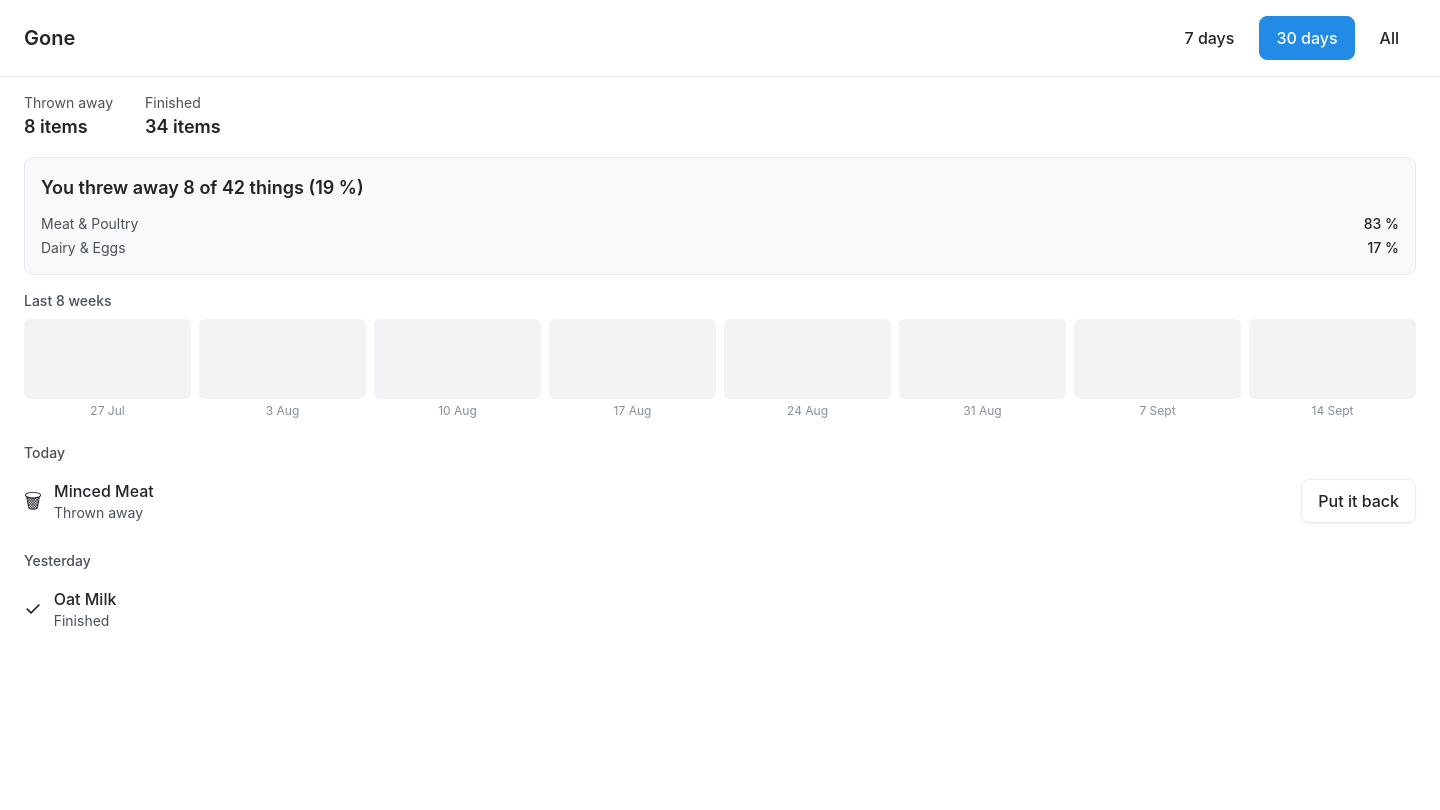
Test: The Gone screen › offers a way back for what is still in the bin, and nothing for what was eaten
The image size is (1440, 810).
Click the button with aria-label "Put Minced Meat back": click(1359, 501) [1301,479,1416,523]
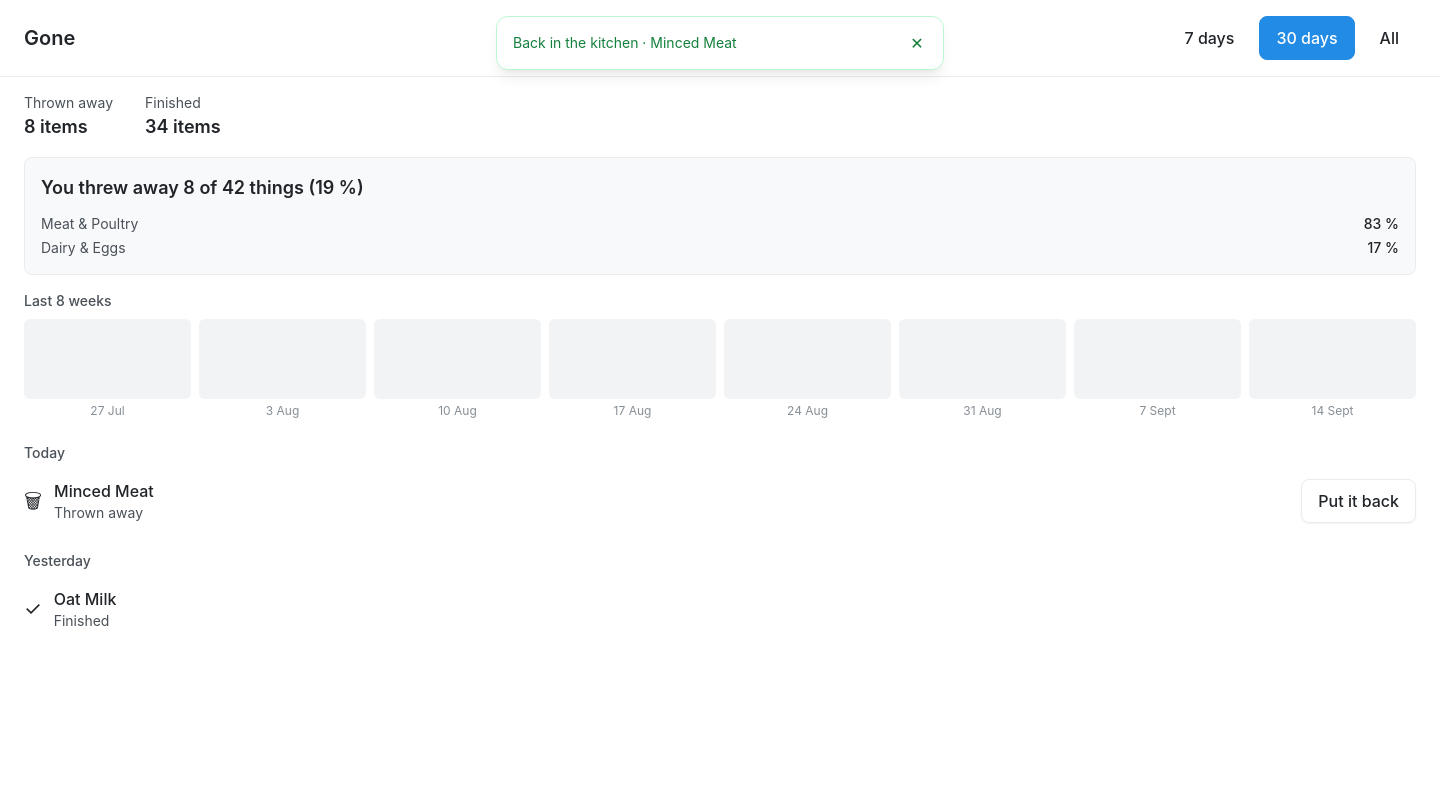
expect the message shows "Back in the kitchen · Minced Meat": met, box [513,34,737,51]
